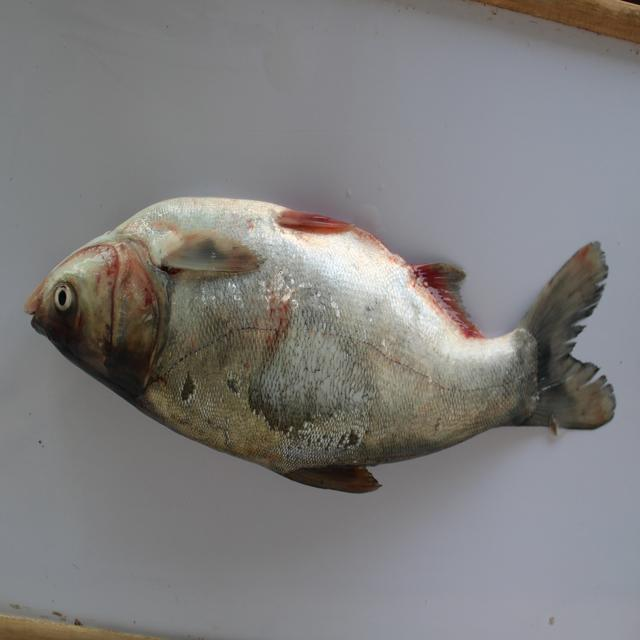SilverCarp: (24, 180, 630, 490)
